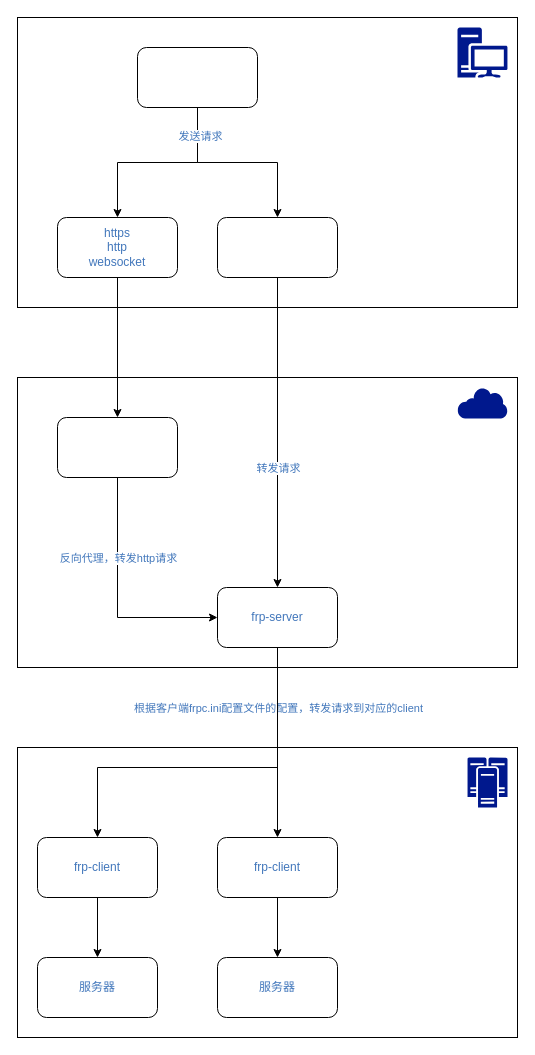
This 535x1055 diagram has some shape labels left out. Here are the shapes that lost their labels. From the top down, the centre of each, then its label:
point (197, 77): 办公电脑
point (277, 247): tcp udp
point (117, 447): nginx
